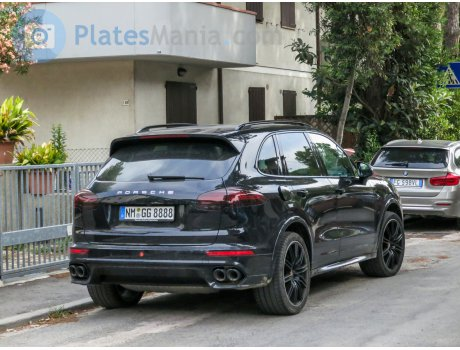License Plates: (125, 206, 175, 218)
